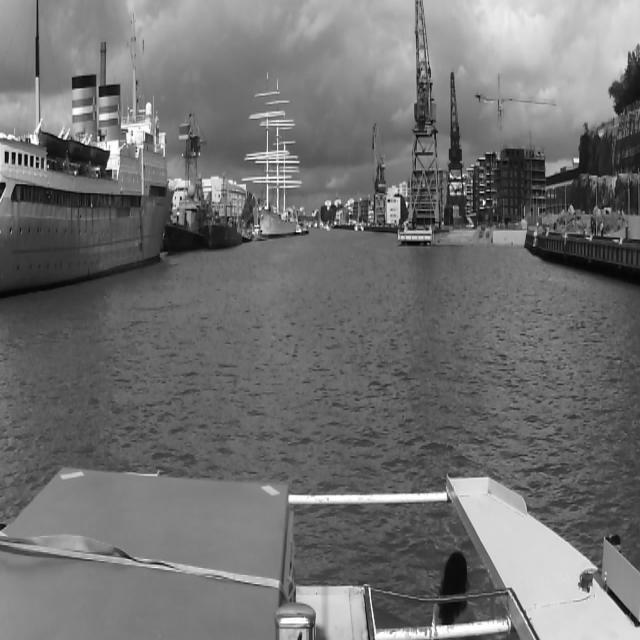ship: (0, 0, 172, 290), (242, 79, 302, 237), (202, 170, 245, 252), (164, 182, 206, 257), (354, 190, 364, 234), (300, 217, 310, 235)
